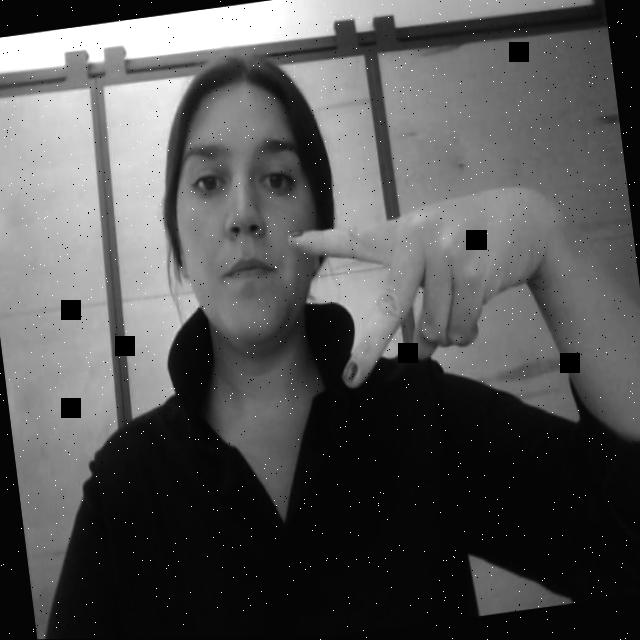Scissors: (281, 173, 528, 402)
